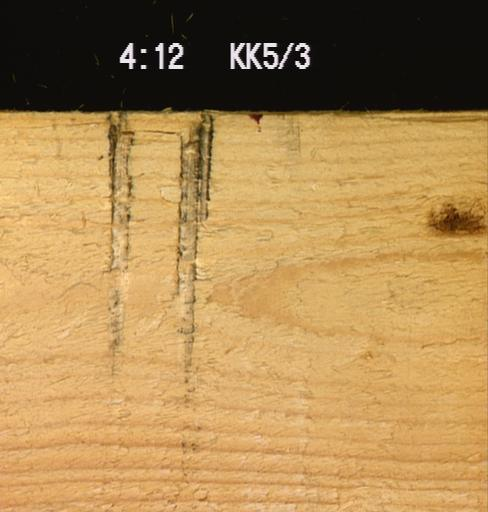wave: (328, 108, 487, 123)
